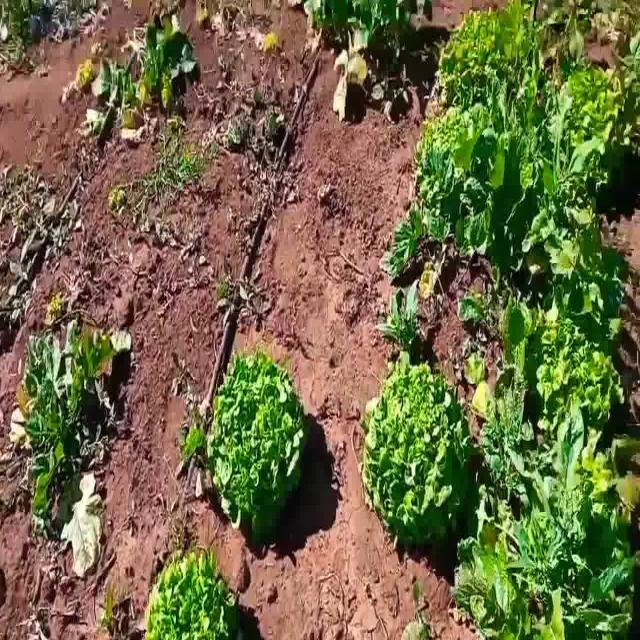Lettuce: (361, 352, 479, 549), (478, 301, 622, 435), (202, 353, 302, 541), (437, 2, 541, 98), (136, 552, 236, 640), (556, 63, 640, 144), (408, 100, 490, 153)
